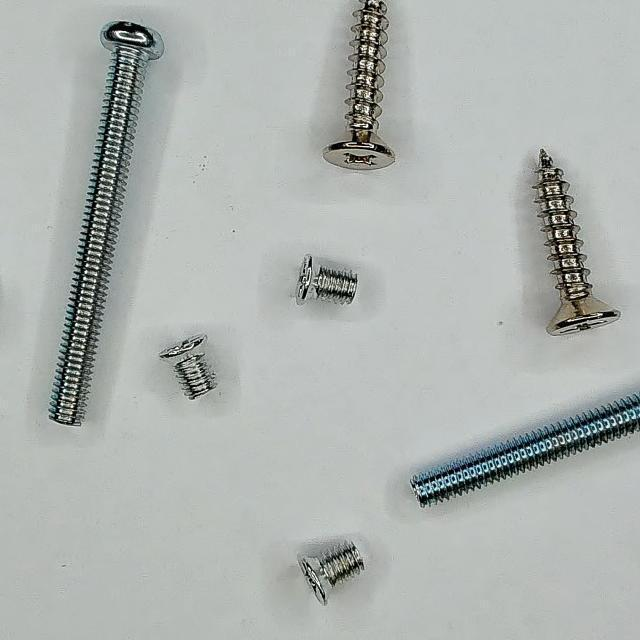Screw: (48, 21, 164, 426), (412, 394, 640, 508), (535, 150, 622, 336), (324, 0, 396, 170), (298, 543, 365, 606), (159, 335, 217, 400), (296, 255, 358, 304)
